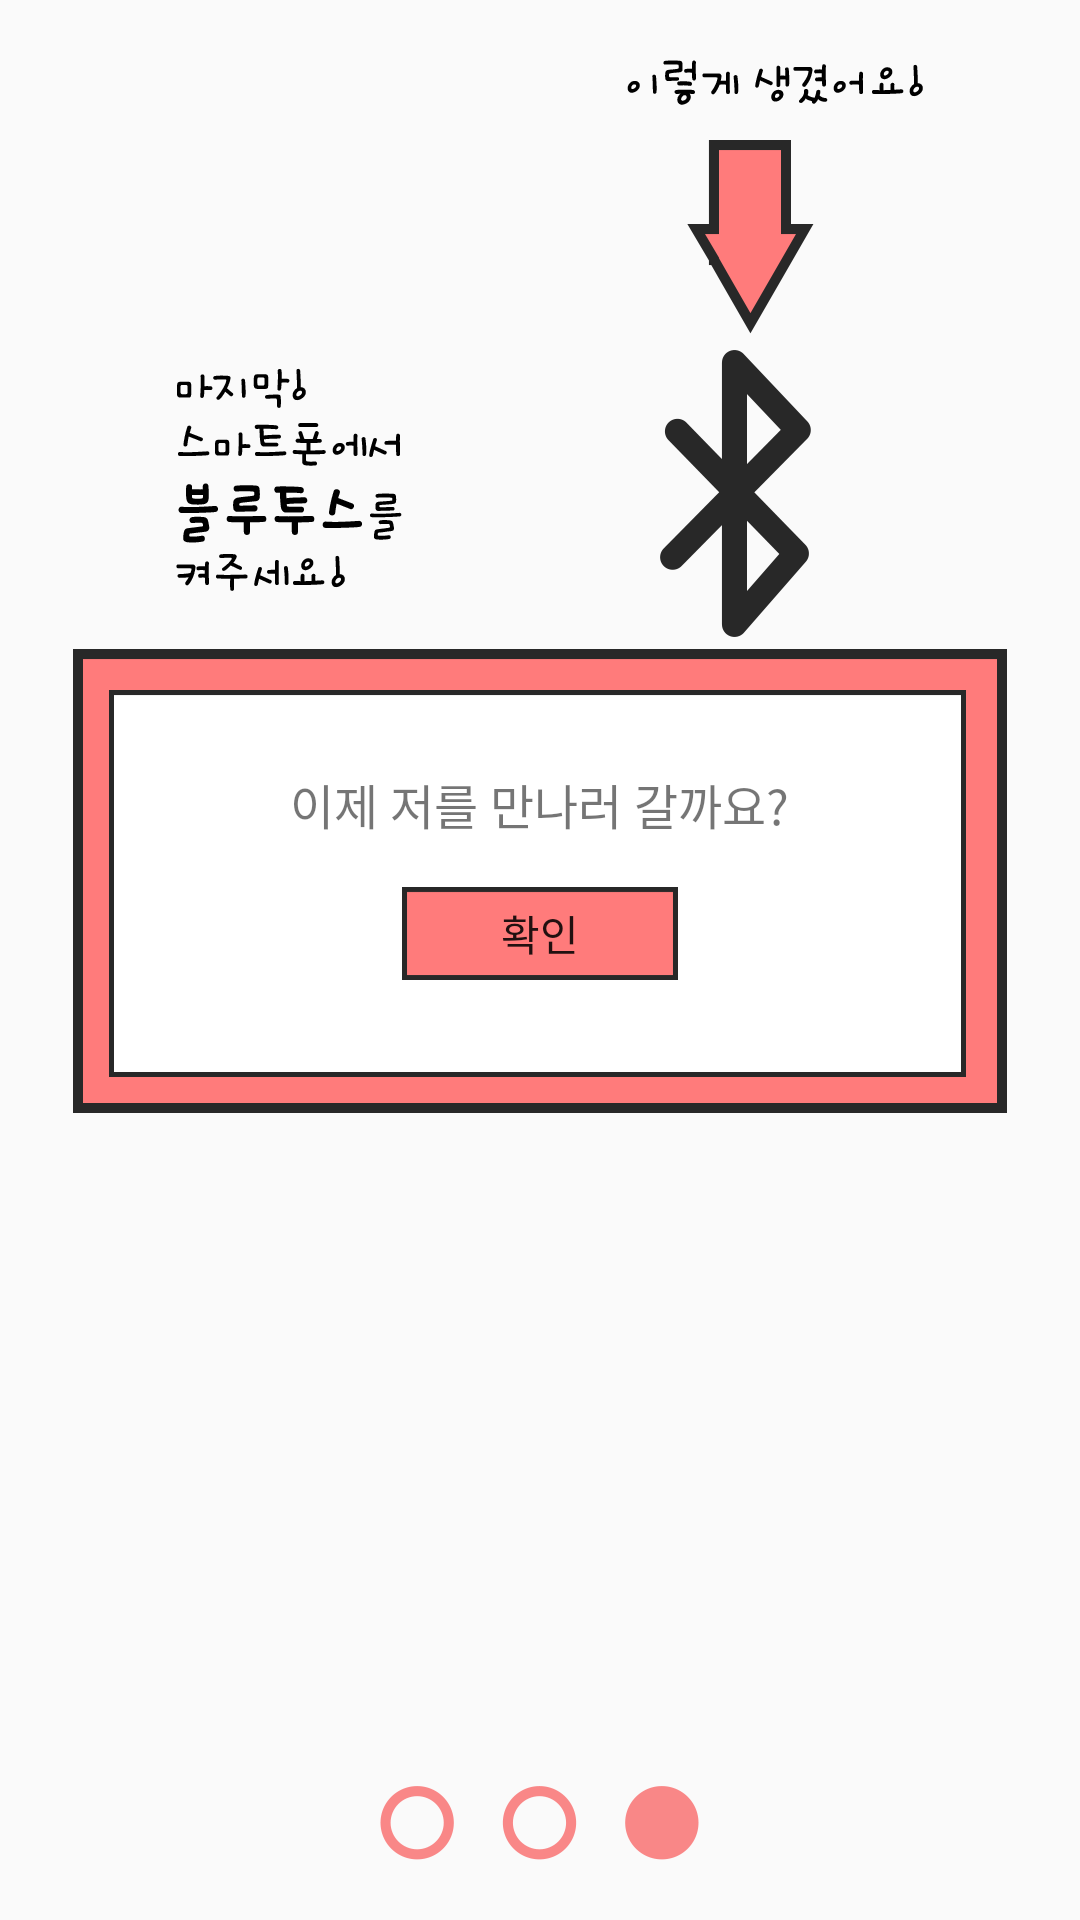

Where icons sit on this 1080×1920 app screen, as (x1, y1, x2, y2):
index: (380, 1786, 699, 1860)
